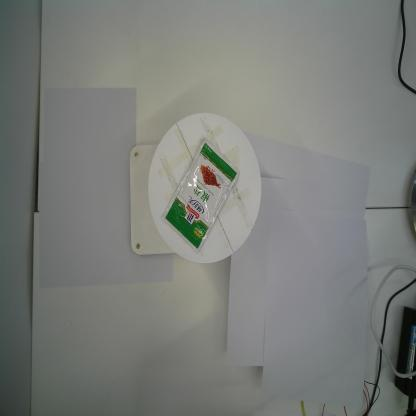Seasoner: (160, 138, 240, 254)
